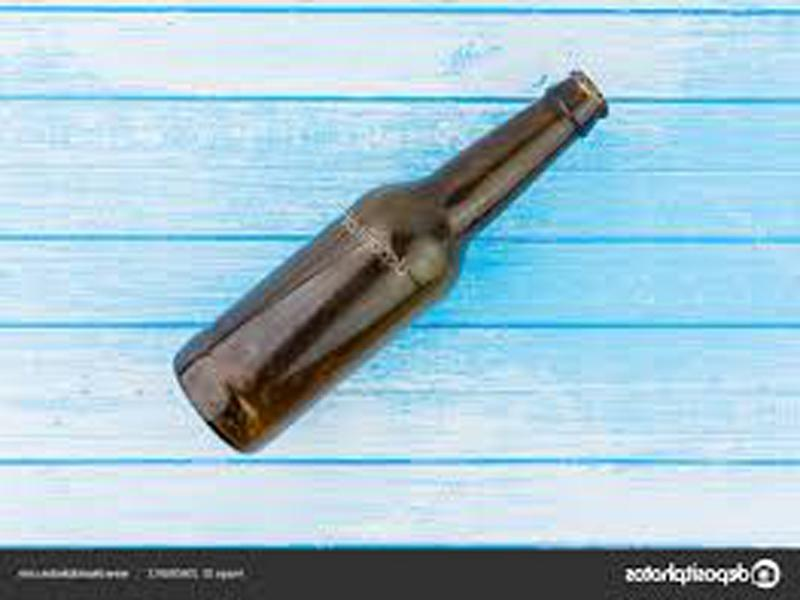Beer: (172, 69, 604, 459)
